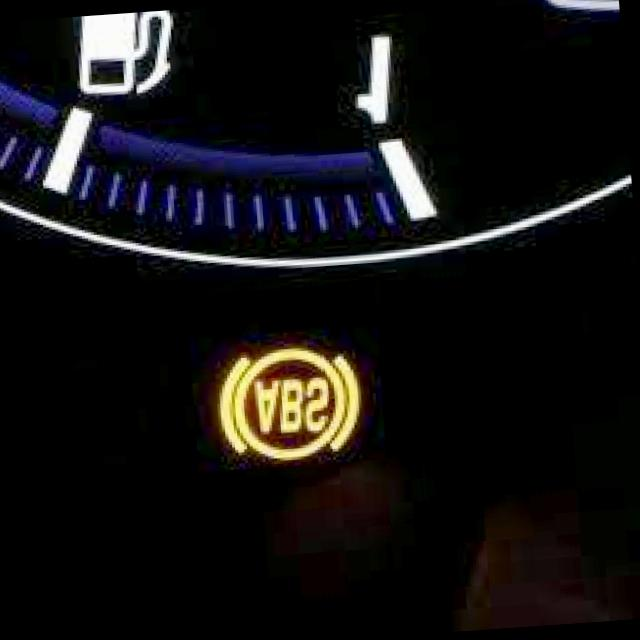kontrolka: (193, 334, 380, 476)
